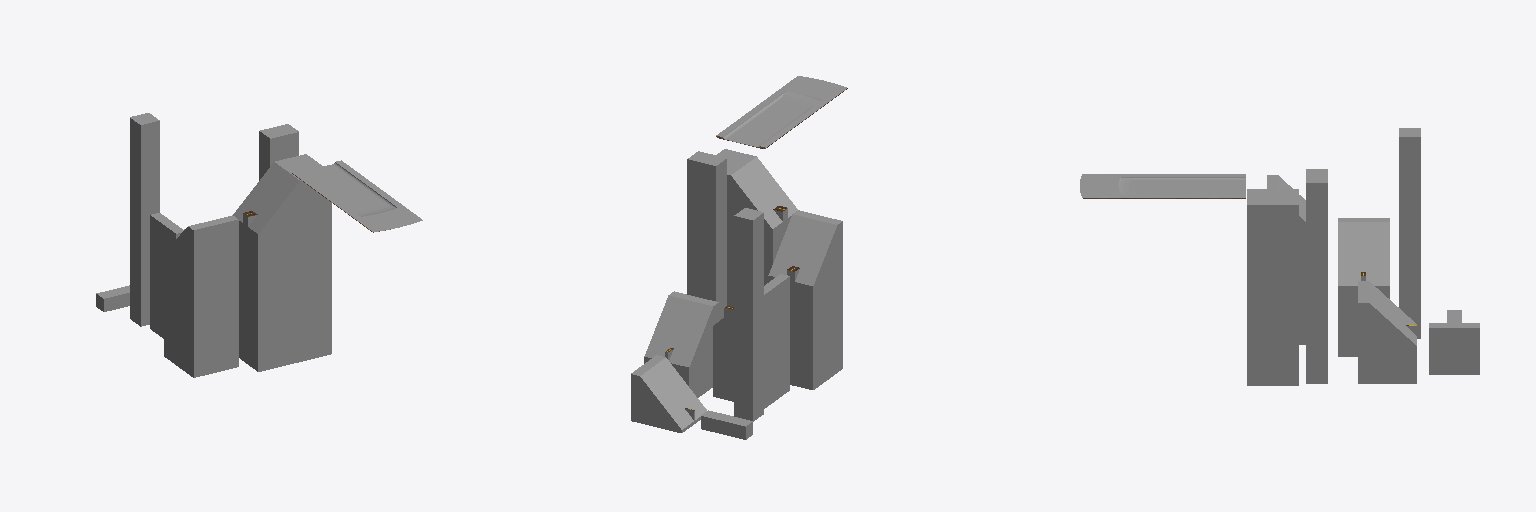
3 renders of one model, left to right at view 1: azimuth 30°, elevation 25°; view 2: azimuth 150°, elevation 25°; view 3: azimuth 270°, elevation 25°, orthographic.
Bounding box in the file's own units: 42.8 × 60.01 × 108.
10 materials, 2 textured.